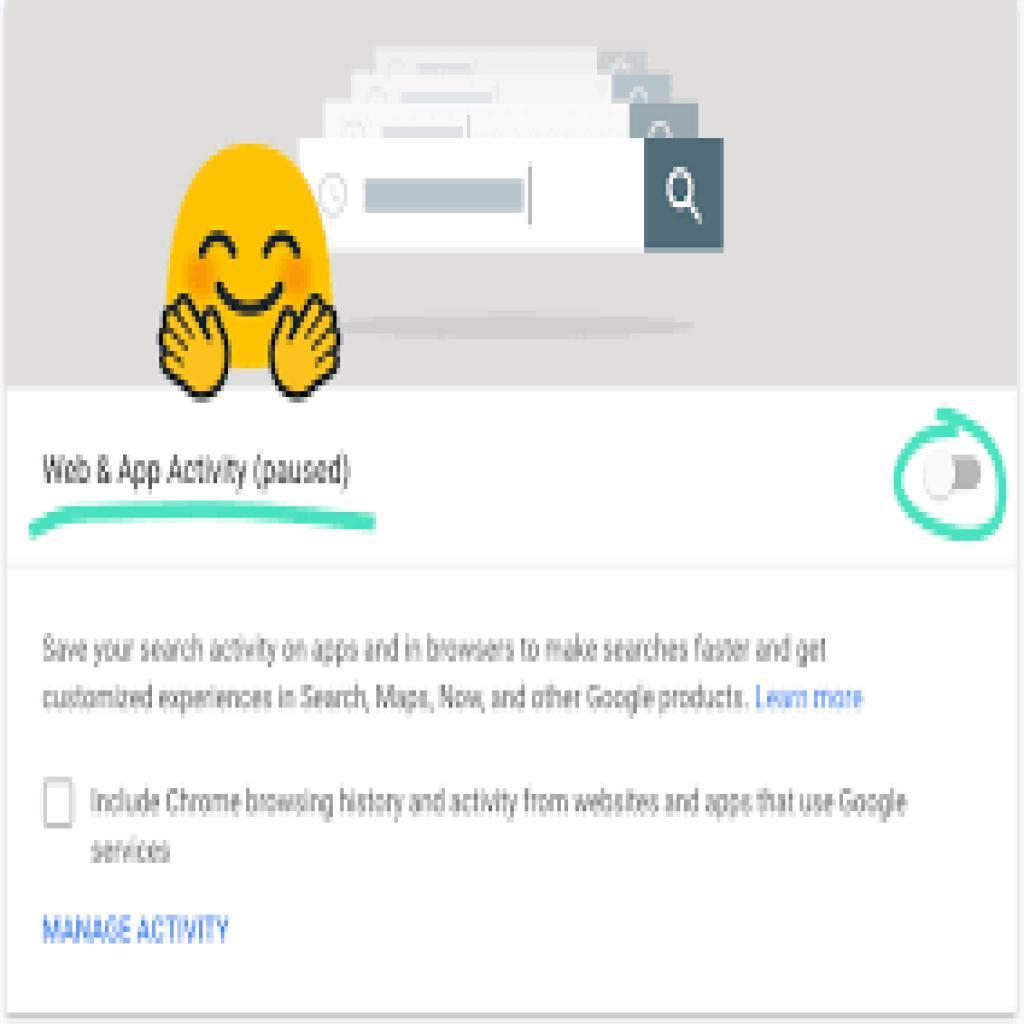checkbox: (45, 780, 76, 827)
label: (40, 450, 357, 495), (34, 910, 239, 950)
switch: (921, 448, 984, 501)
